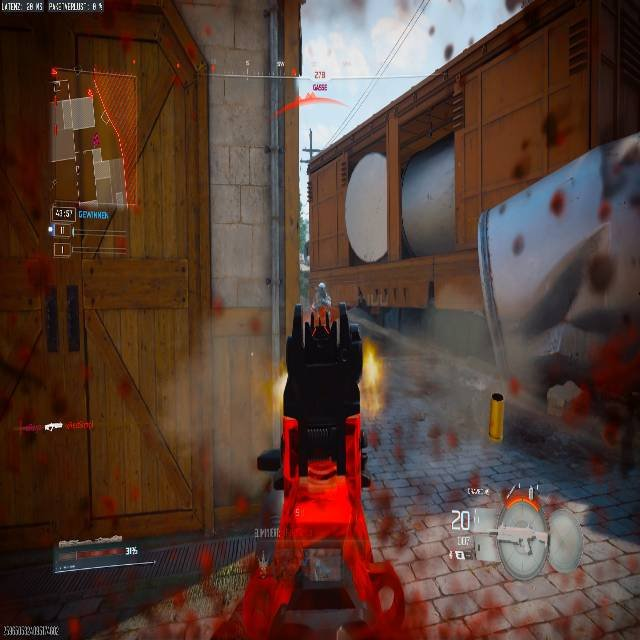head: (317, 282, 326, 292)
player: (311, 282, 332, 335)
